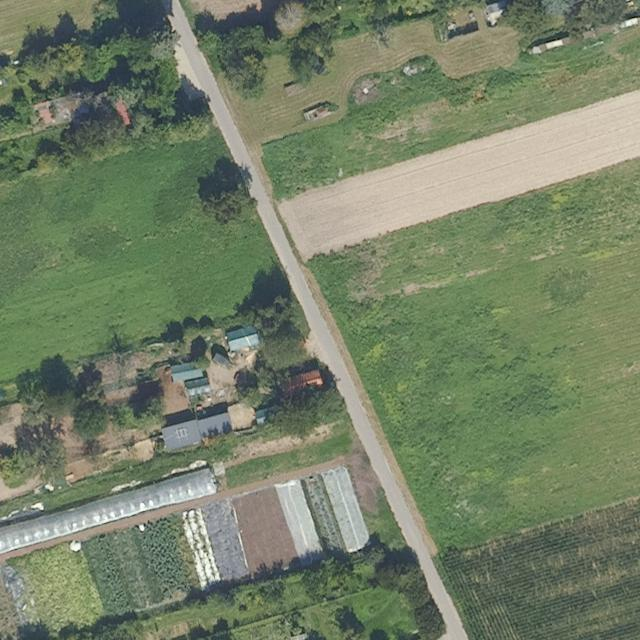PV: (175, 427, 190, 441)
